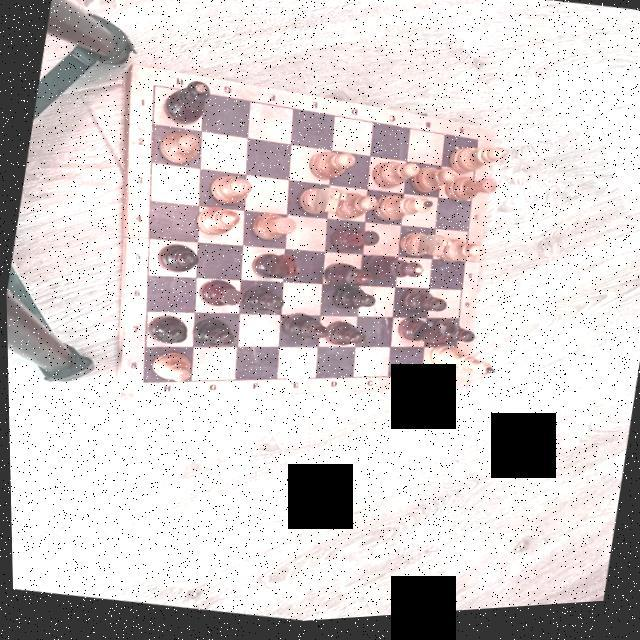chess-table-corners: (132, 376, 149, 390), (446, 375, 458, 386), (472, 140, 483, 150), (148, 81, 158, 91)
